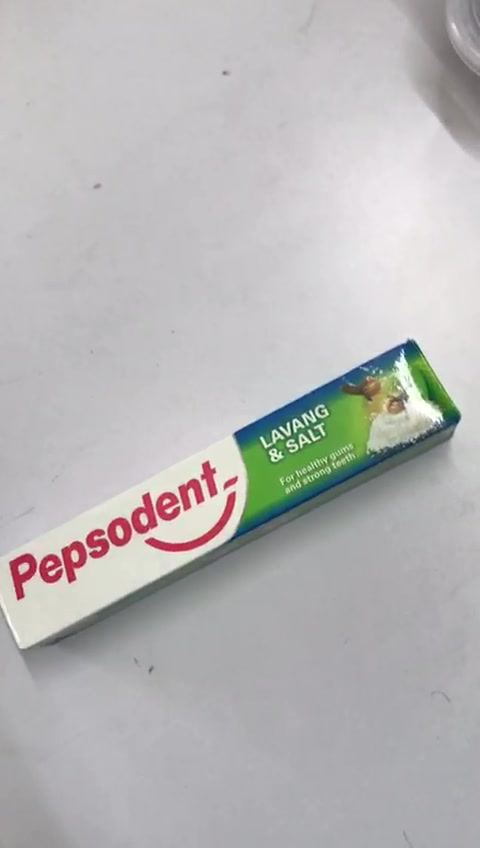pepsodent: (8, 342, 460, 655)
